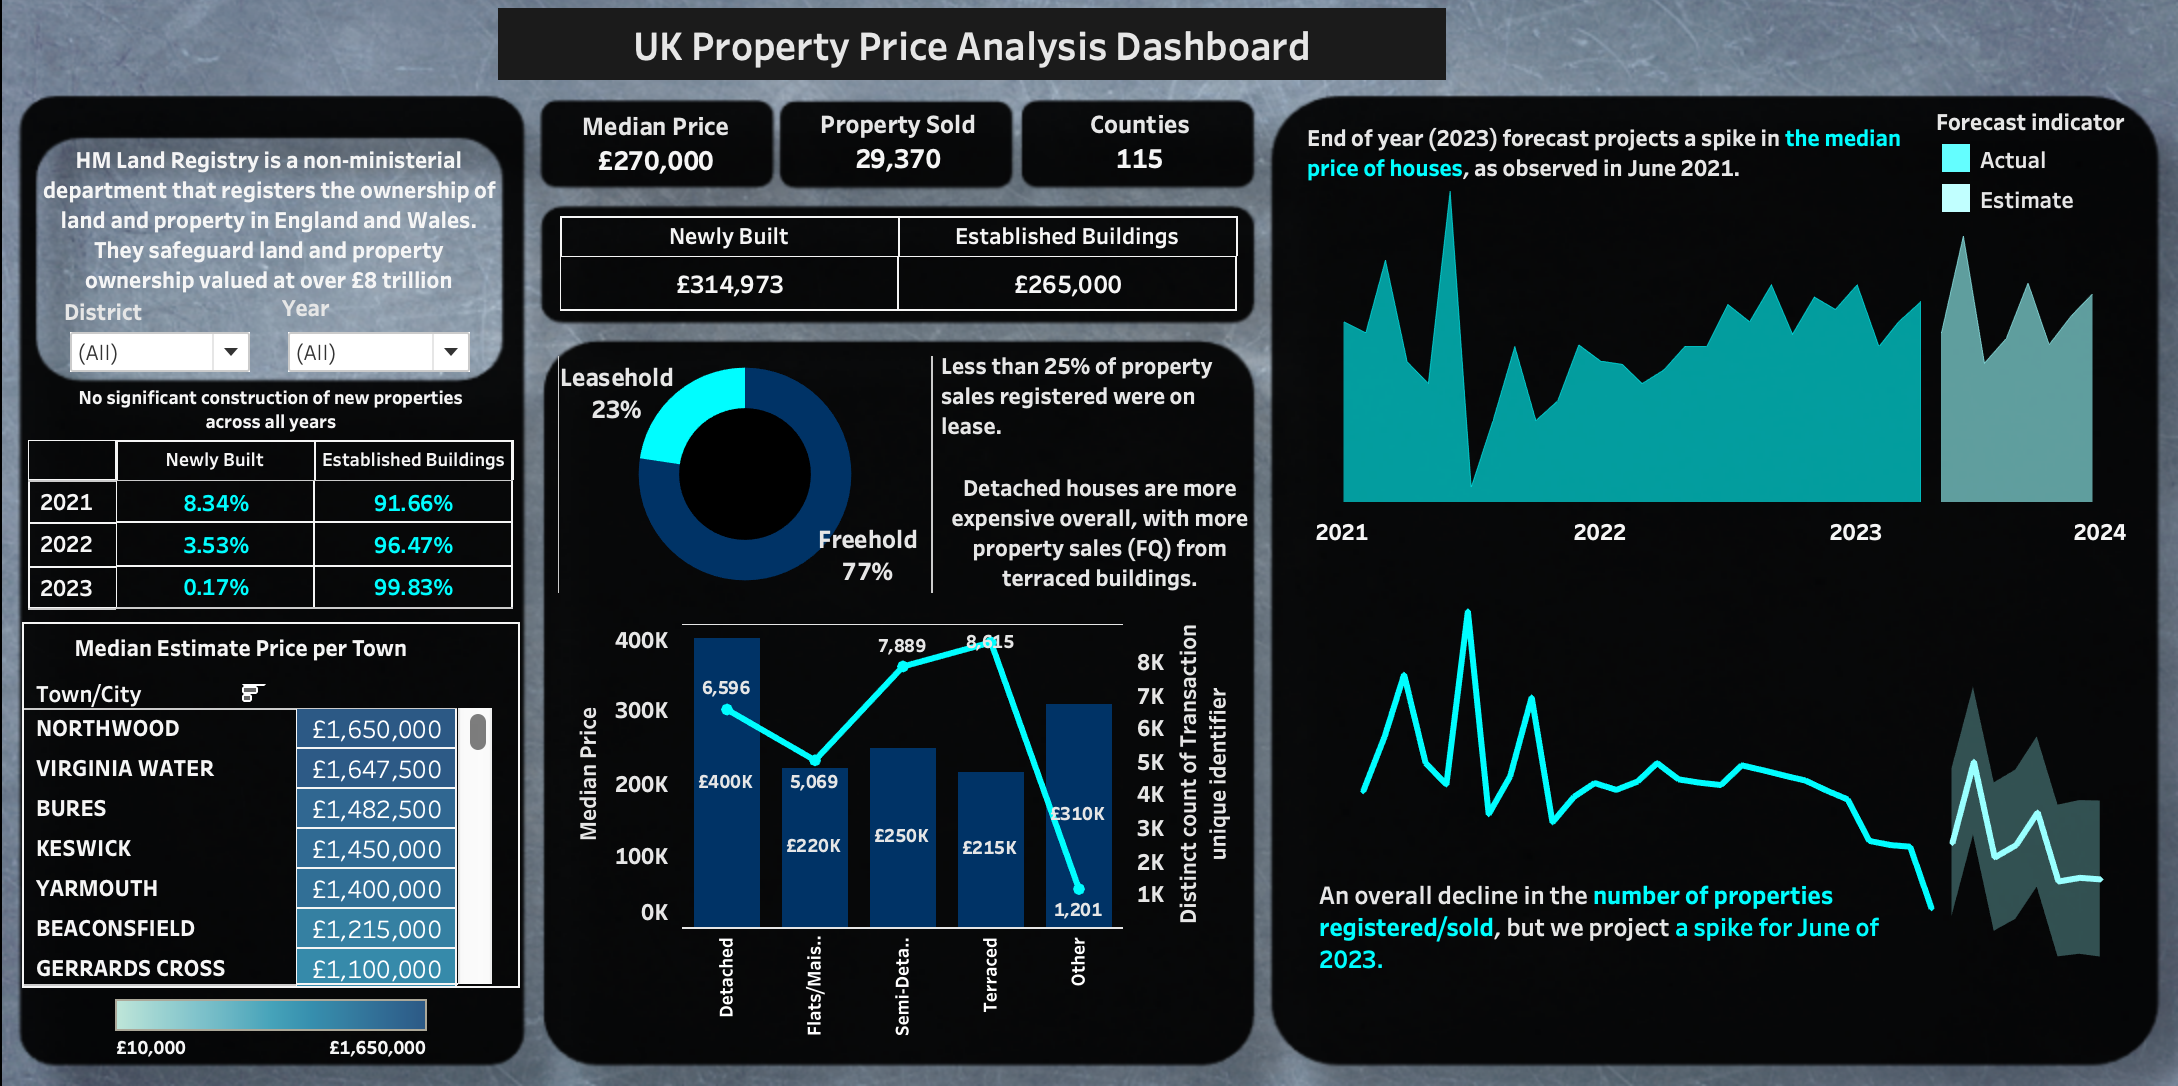

Layout of this report page (visuals, bound fields, positions):
{"tool":"tableau","page":{"name":"Dashboard 1","canvas":[1150,568],"ordinal":0},"visuals":[{"type":"image","param":"Image/Dashboard Backgroud.png","box":[8,8,1134,552]},{"type":"text","box":[276,14,480,42]},{"type":"worksheet","title":"Median Price","mark":"Automatic","box":[297,57,121,55]},{"type":"worksheet","title":"Property Sold","mark":"Automatic","box":[421,61,115,46]},{"type":"worksheet","title":"Counties","mark":"Automatic","box":[544,63,111,42]},{"type":"legend","title":"Median Price Forecast","param":"[federated.0p1g3ax04n7emz1gy31ih19mfiwa].[none:Forecast Indicator:nk]","box":[998,66,108,54]},{"type":"text","box":[681,68,310,42]},{"type":"text","box":[49,80,231,86]},{"type":"worksheet","title":"Median Price Forecast","mark":"Area","rows":["price"],"cols":["Date_of_Transfer"],"box":[683,101,412,193]},{"type":"worksheet","title":"Old/New","mark":"Automatic","cols":["Calculation_2099029336316801025"],"box":[310,121,339,48]},{"type":"filter","title":"Property Sold","param":"[federated.0p1g3ax04n7emz1gy31ih19mfiwa].[yr:Date_of_Transfer:ok]","box":[171,159,97,42]},{"type":"filter","title":"Property Sold","param":"[federated.0p1g3ax04n7emz1gy31ih19mfiwa].[none:District:nk]","box":[62,161,96,38]},{"type":"text","box":[498,187,164,125]},{"type":"worksheet","title":"Duration","mark":"Pie","rows":["Calculation_2099029336463892484","Calculation_2099029336463892484"],"box":[309,191,188,119]},{"type":"text","box":[43,201,245,34]},{"type":"worksheet","title":"Old/New Percentage","mark":"Automatic","rows":["Date_of_Transfer"],"cols":["Calculation_2099029336316801025"],"box":[44,233,243,85]},{"type":"worksheet","title":"Property Sold Forecast","mark":"Automatic","rows":["Transaction_unique_identifier"],"cols":["Date_of_Transfer"],"box":[691,308,409,192]},{"type":"worksheet","title":"Town/City Price","mark":"Square","rows":["Town/City"],"box":[41,324,249,183]},{"type":"worksheet","title":"Property Type","mark":"Automatic","rows":["price","Transaction_unique_identifier"],"cols":["Calculation_2099029336319078403"],"box":[309,325,345,208]},{"type":"text","box":[687,450,289,54]},{"type":"legend","title":"Town/City Price","param":"[federated.0p1g3ax04n7emz1gy31ih19mfiwa].[med:price:qk]","box":[84,509,164,35]}]}

Visuals, with their boxes in screenshot pixels (x1, y1, x2, y2), scaled from the page's 1150x568 canvas onto the 2178x1086 screenshot:
image: x1=15, y1=15, x2=2163, y2=1071
text: x1=523, y1=27, x2=1432, y2=107
"Median Price" worksheet: x1=562, y1=109, x2=792, y2=214
"Property Sold" worksheet: x1=797, y1=117, x2=1015, y2=205
"Counties" worksheet: x1=1030, y1=120, x2=1241, y2=201
"Median Price Forecast" legend: x1=1890, y1=126, x2=2095, y2=229
text: x1=1290, y1=130, x2=1877, y2=210
text: x1=93, y1=153, x2=530, y2=317
"Median Price Forecast" worksheet (Area marks): x1=1294, y1=193, x2=2074, y2=562
"Old/New" worksheet: x1=587, y1=231, x2=1229, y2=323
"Property Sold" filter: x1=324, y1=304, x2=508, y2=384
"Property Sold" filter: x1=117, y1=308, x2=299, y2=380
text: x1=943, y1=358, x2=1254, y2=597
"Duration" worksheet (Pie marks): x1=585, y1=365, x2=941, y2=593
text: x1=81, y1=384, x2=545, y2=449
"Old/New Percentage" worksheet: x1=83, y1=445, x2=544, y2=608
"Property Sold Forecast" worksheet: x1=1309, y1=589, x2=2083, y2=956
"Town/City Price" worksheet (Square marks): x1=78, y1=619, x2=549, y2=969
"Property Type" worksheet: x1=585, y1=621, x2=1239, y2=1019
text: x1=1301, y1=860, x2=1848, y2=964
"Town/City Price" legend: x1=159, y1=973, x2=470, y2=1040
